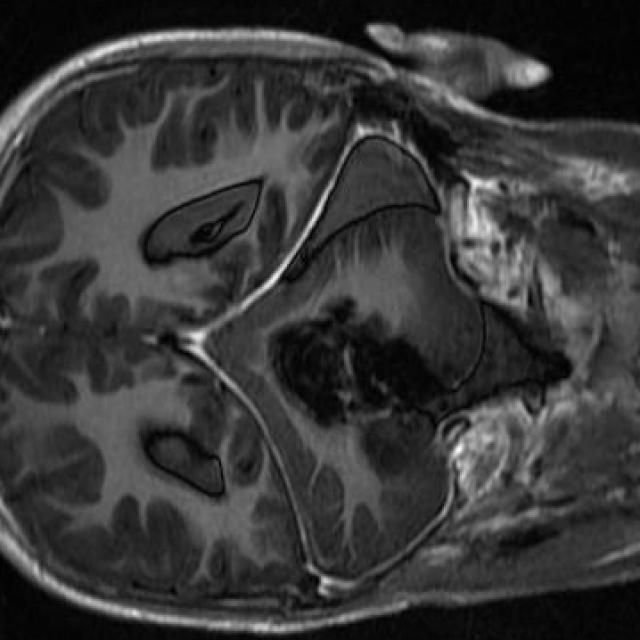glioma: (266, 296, 455, 481)
